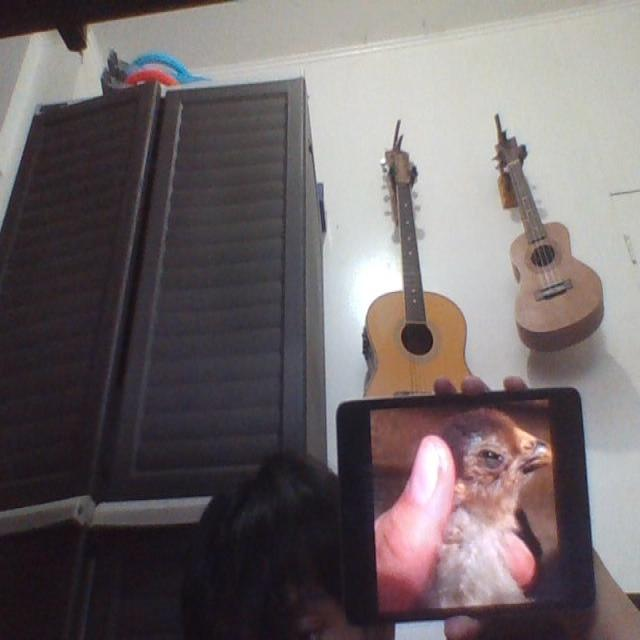Sick: (424, 410, 553, 608)
